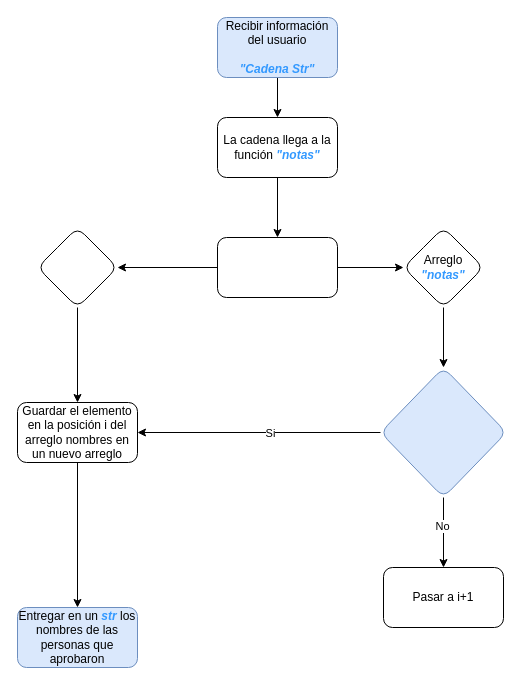
Image size: 524x685. Some labels were removed from this diagram. The shapes that lost their labels are listed below. From the top down, each one's centre as x and y in pixels, then its label:
the point at 77,267: Arreglo "nombres"
the point at 277,267: Se crean dos arreglos nuevos
the point at 443,432: ¿El valor en la posición i >=3?
